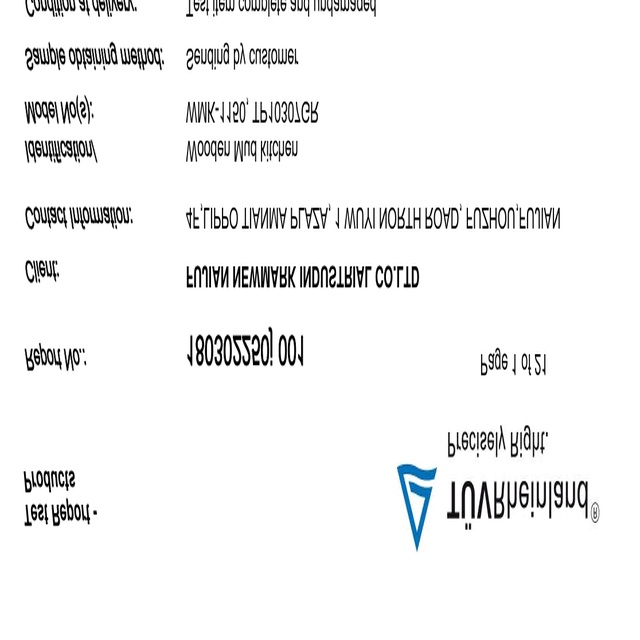tuv_rheinland: (393, 458, 605, 551)
